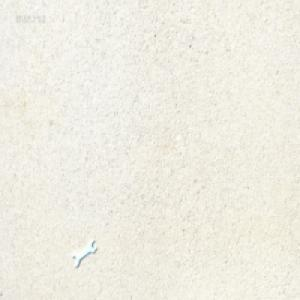Wrench: (73, 239, 97, 268)
